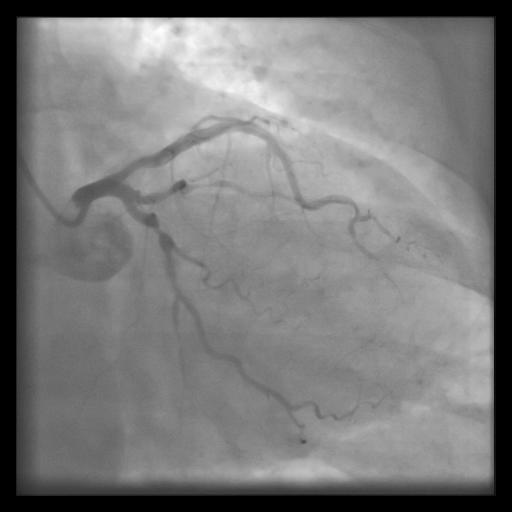Stenosis: (146, 213, 174, 246)
